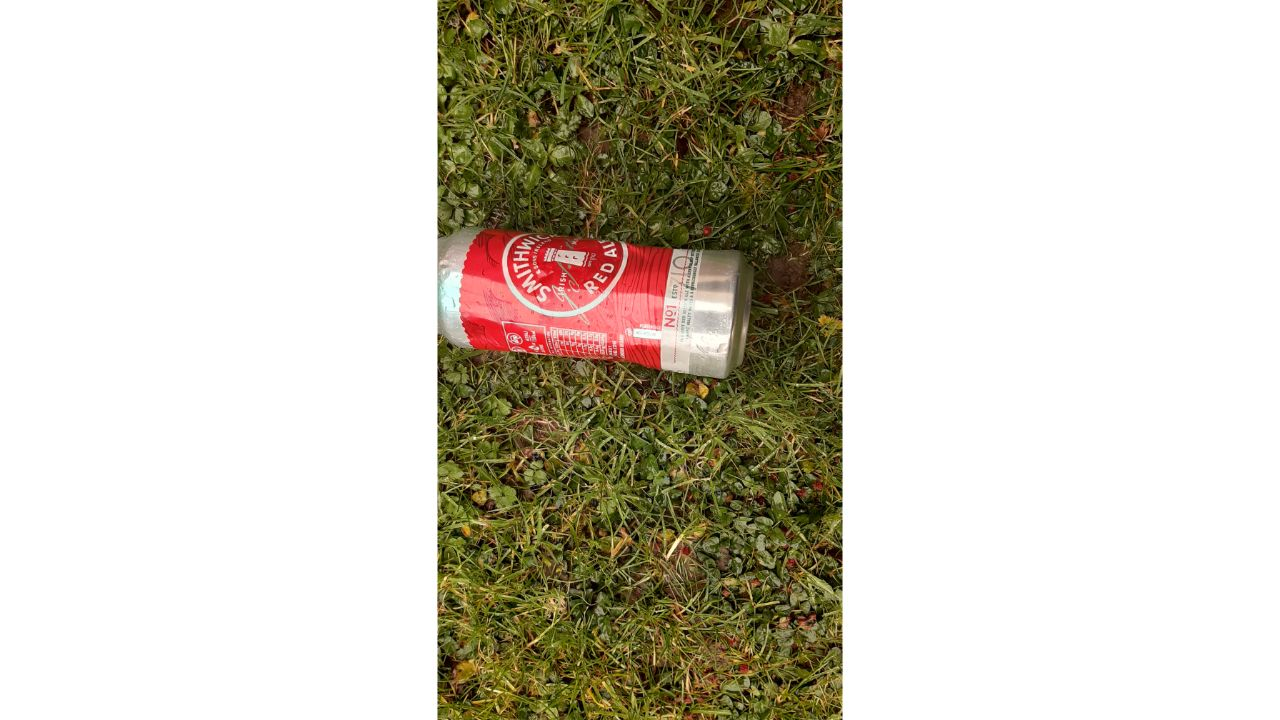Can: (437, 224, 759, 383)
